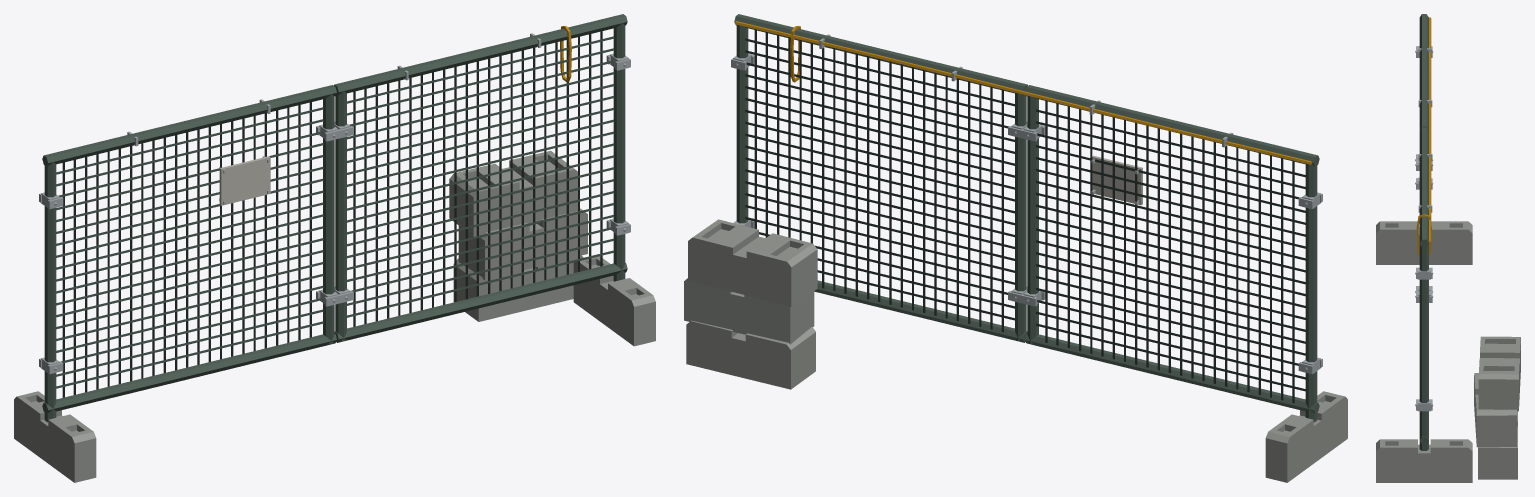
File: mesh-site-fence-run-a798a0.glb
3 renders of one model, left to right at view 1: azimuth 30°, elevation 25°; view 2: azimuth 150°, elevation 25°; view 3: azimuth 270°, elevation 25°, orthographic. The views are drawn at different scales.
Visible parts, largest first — view 1: fence-bay, spare-feet-mesh; view 2: fence-bay, spare-feet-mesh, cable-run; view 3: fence-bay, spare-feet-mesh, cable-run, cable-bight-mesh.
Boxes of the visible parts, x1,y1,x2,y2 form: fence-bay: [14, 14, 655, 482]; spare-feet-mesh: [449, 150, 587, 321]; fence-bay: [731, 14, 1347, 482]; spare-feet-mesh: [684, 219, 817, 389]; cable-run: [735, 21, 1311, 164]; fence-bay: [1376, 14, 1472, 482]; spare-feet-mesh: [1474, 336, 1520, 479]; cable-run: [1418, 17, 1432, 243]; cable-bight-mesh: [1416, 214, 1431, 255].
Bounding box in the file's own units: 4 × 2.02 × 1.08.
